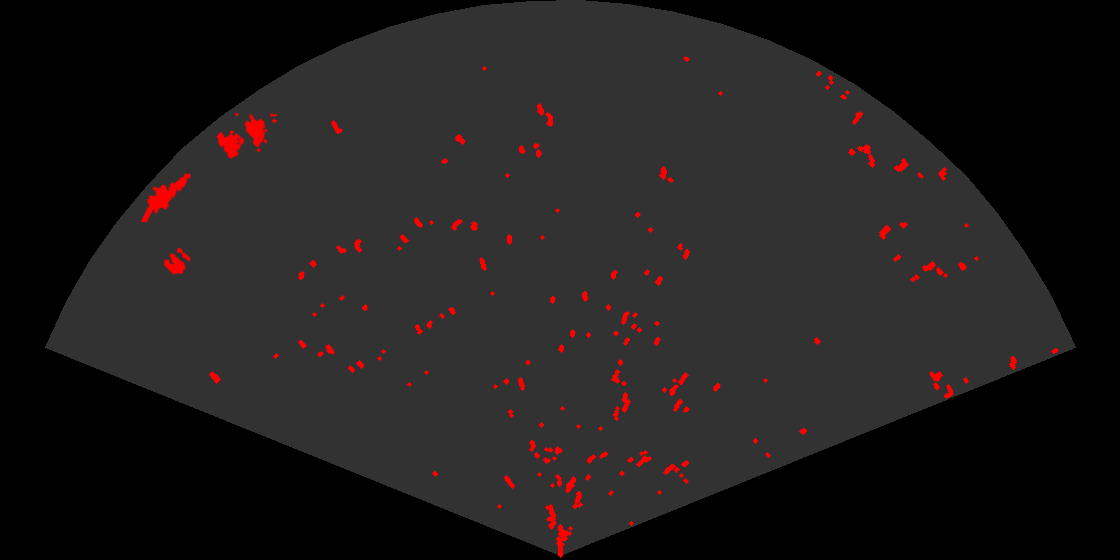ball: (162, 246, 192, 276)
cage: (215, 113, 277, 160)
frogman: (139, 171, 193, 222)
